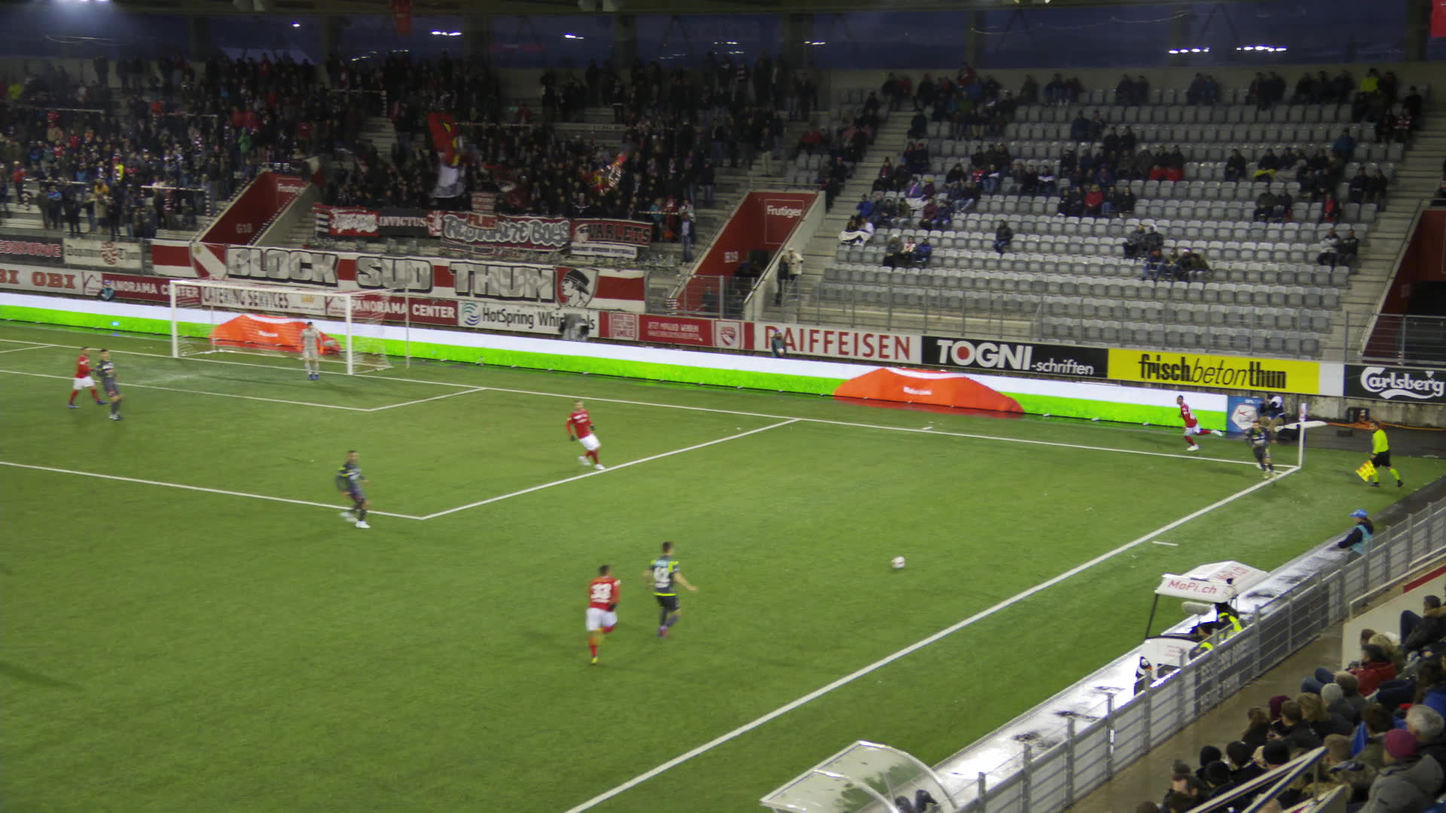ball: (890, 555, 906, 568)
player: (636, 542, 689, 647), (583, 562, 621, 665), (328, 446, 373, 531), (564, 397, 606, 470), (1173, 394, 1224, 451), (66, 346, 106, 408), (1240, 419, 1277, 483), (93, 347, 124, 421), (297, 320, 322, 380)
referee: (1351, 419, 1402, 489)
